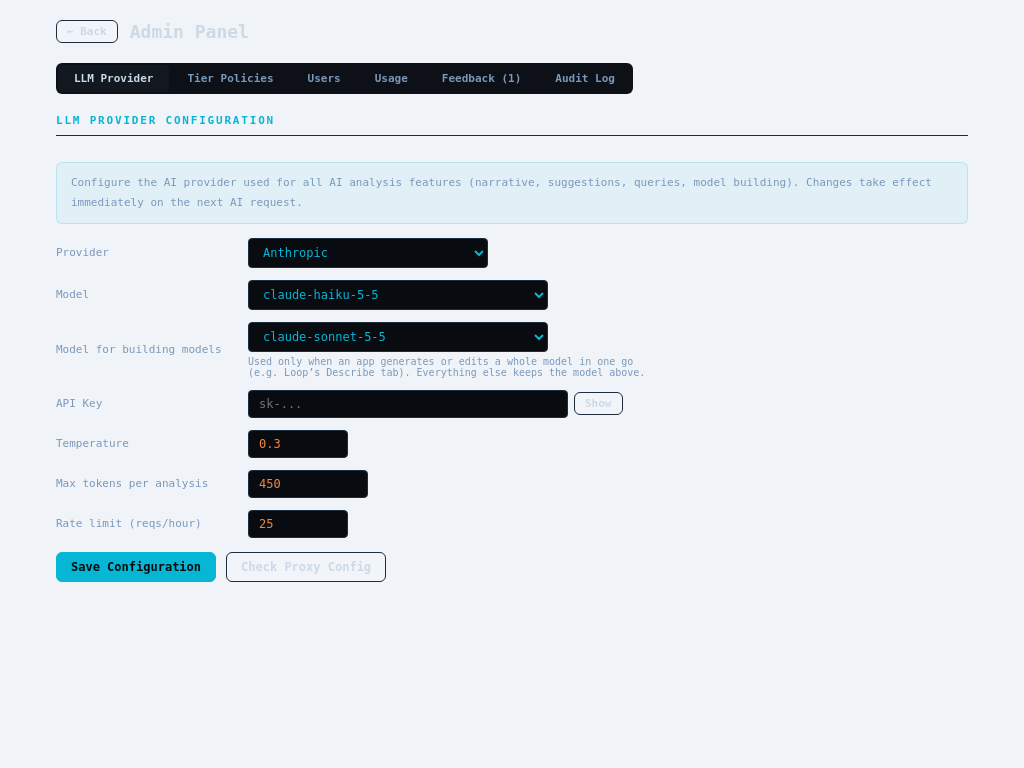
LLM settings — proxy status check › Check Proxy Config shows key status from hasApiKey=true without any part of the key
This screenshot has width=1024, height=768.
Click the button "Check Proxy Config" at (306, 567), box [226,552,386,582]
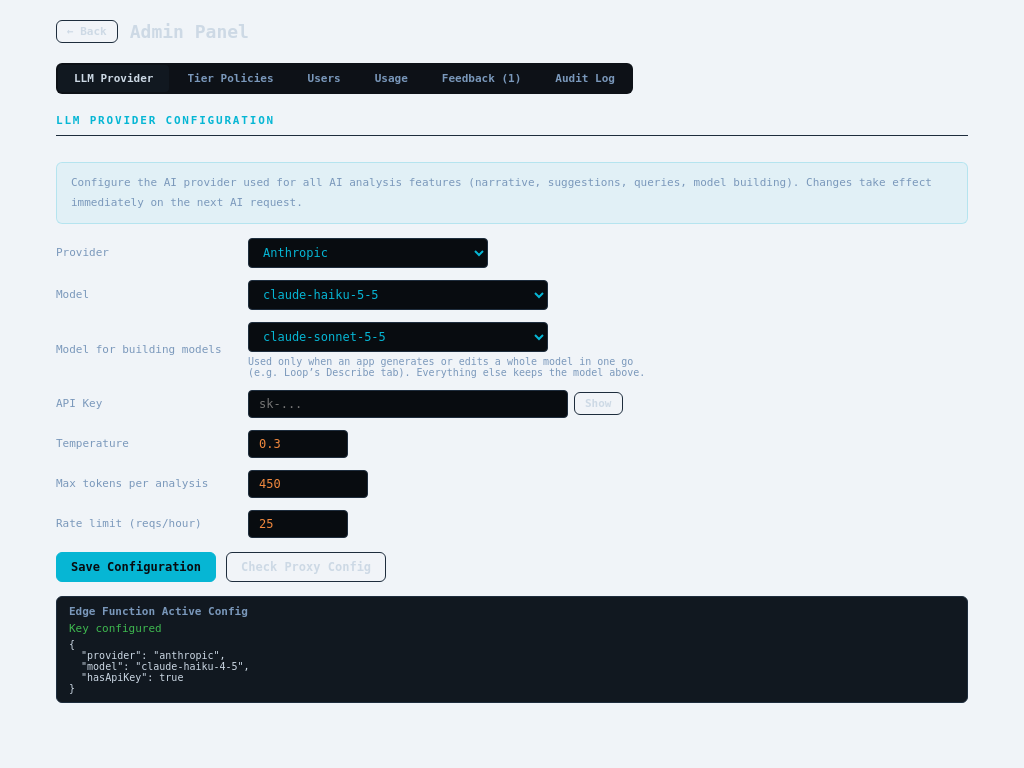
Expected: the text "Key configured" is shown, [69,622,162,635]
